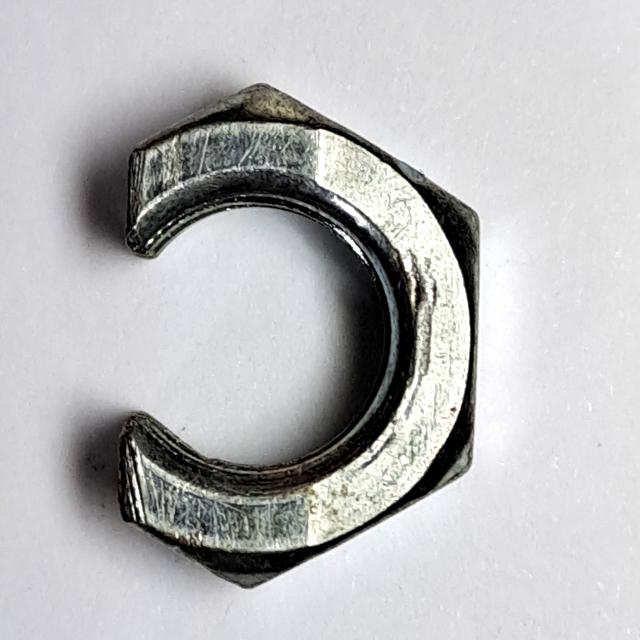Fracture: (107, 66, 496, 598)
